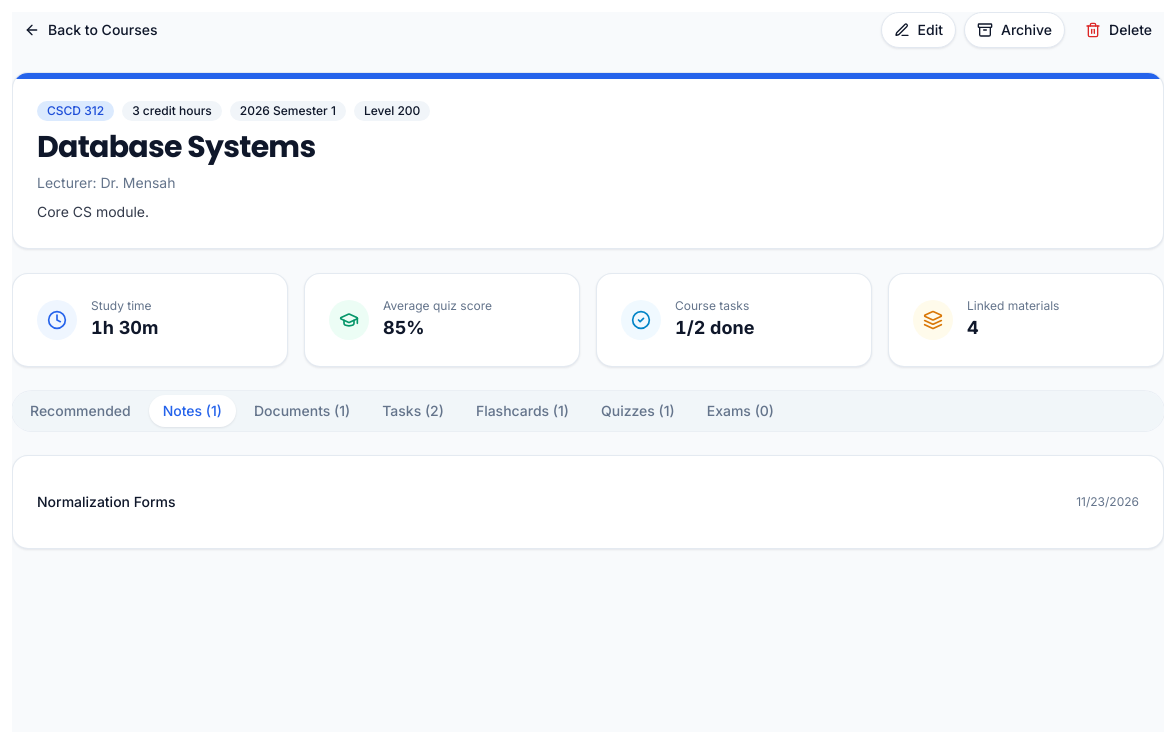
Test: CourseDetailPage › renders course stats and all six linked overview tabs
Expected: the heading "Database Systems" is shown, [37,126,315,168]
Expected: the text "1h 30m" is shown, [91,314,158,342]
Click the tab "Documents (1)": (302,411) [240,395,364,427]
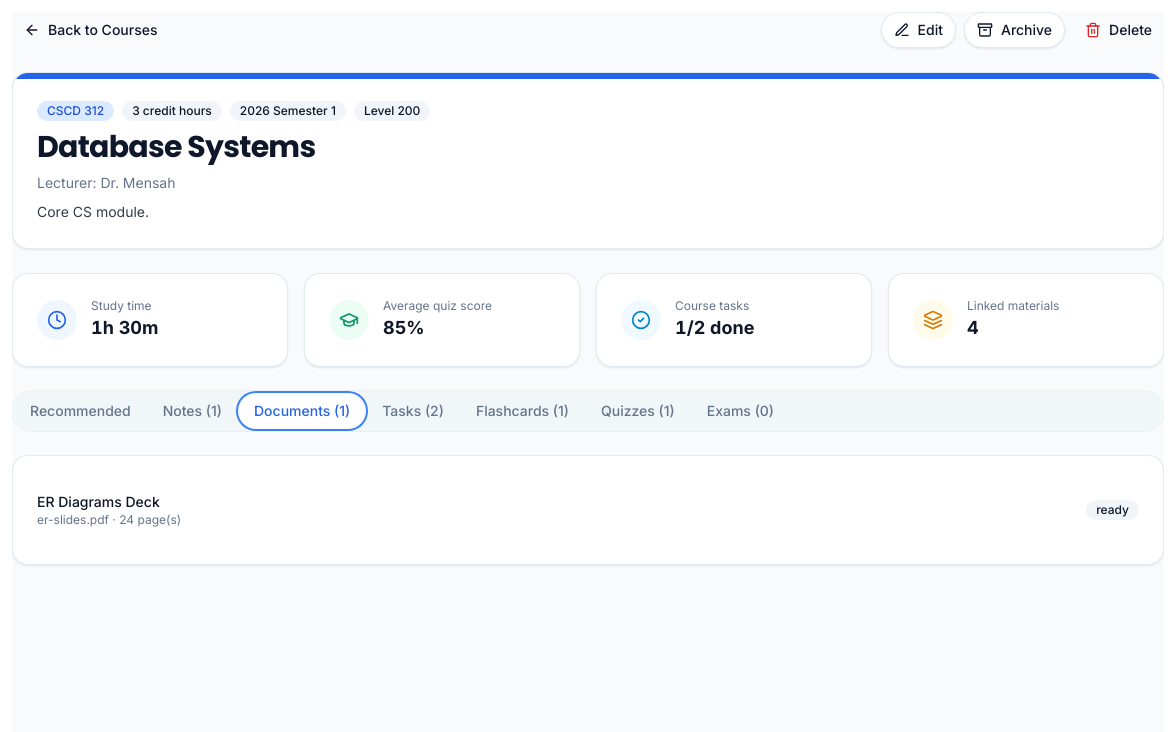
Now the text "ER Diagrams Deck" is shown, box [37,492,181,512]
Click the tab "Tasks (2)": (413,411) [368,395,458,427]
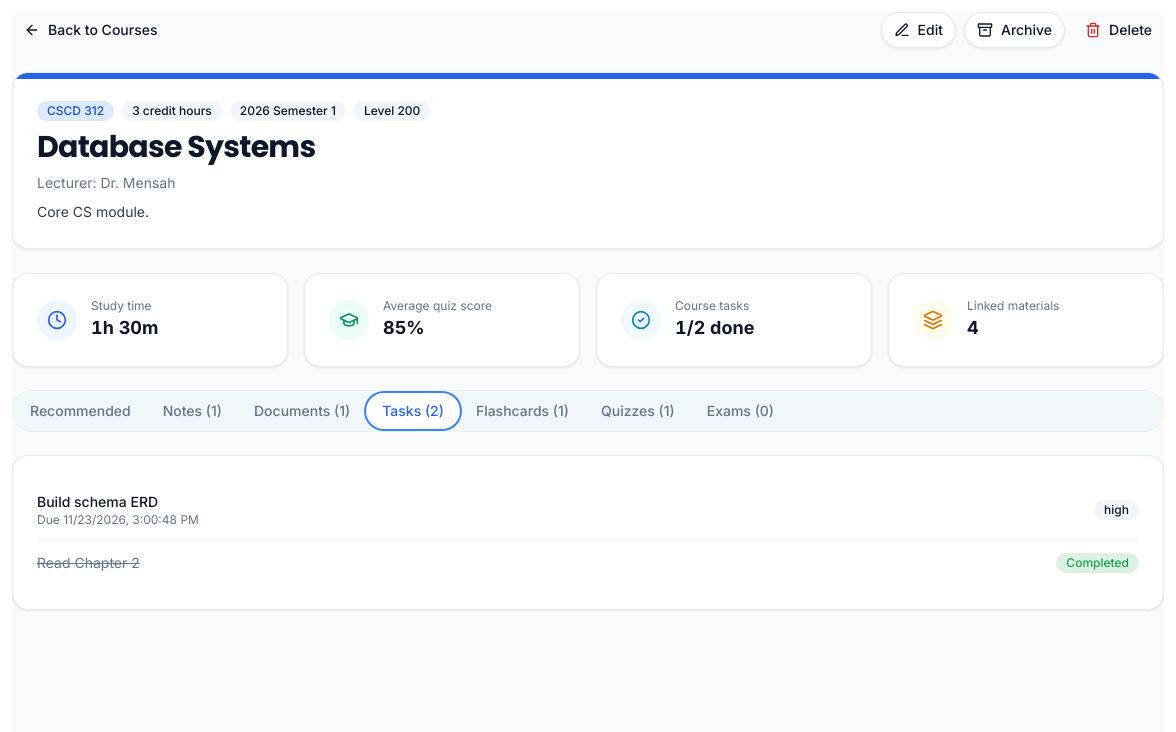
Now the text "Build schema ERD" is shown, box [37,493,158,510]
Click the tab "Flashcards (1)": (522,411) [462,395,583,427]
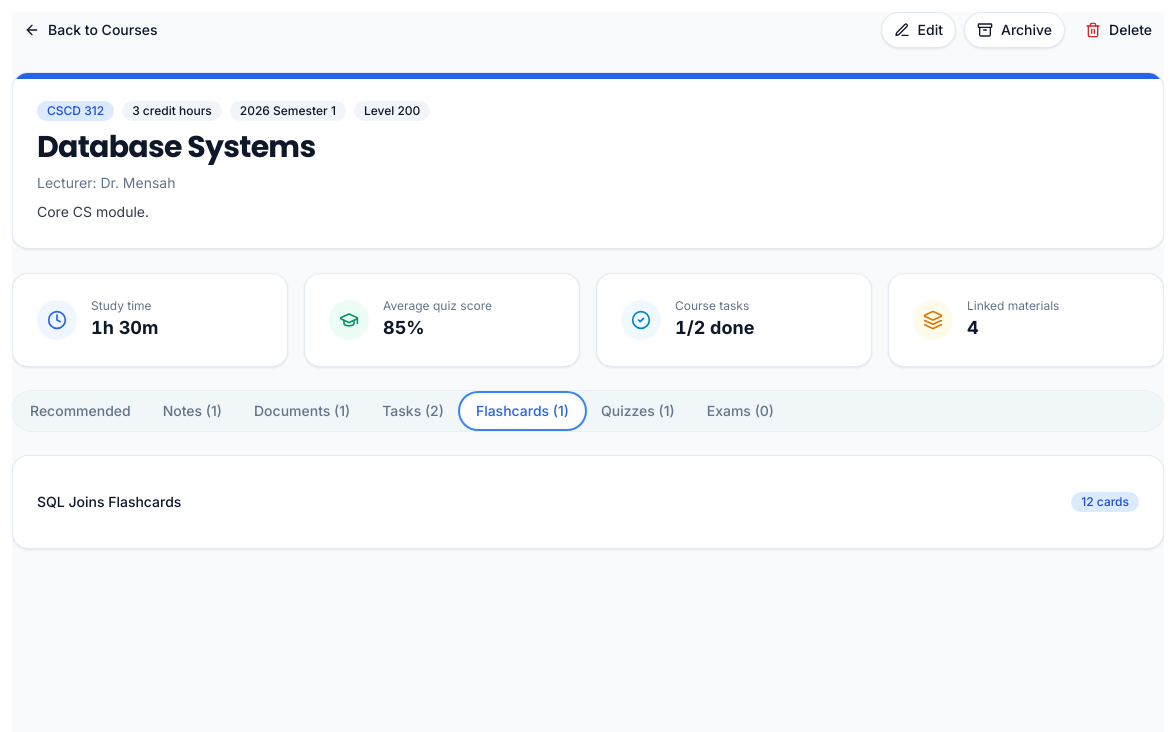
Now the text "SQL Joins Flashcards" is shown, box [37,492,181,512]
Click the tab "Quizzes (1)": (638,411) [587,395,689,427]
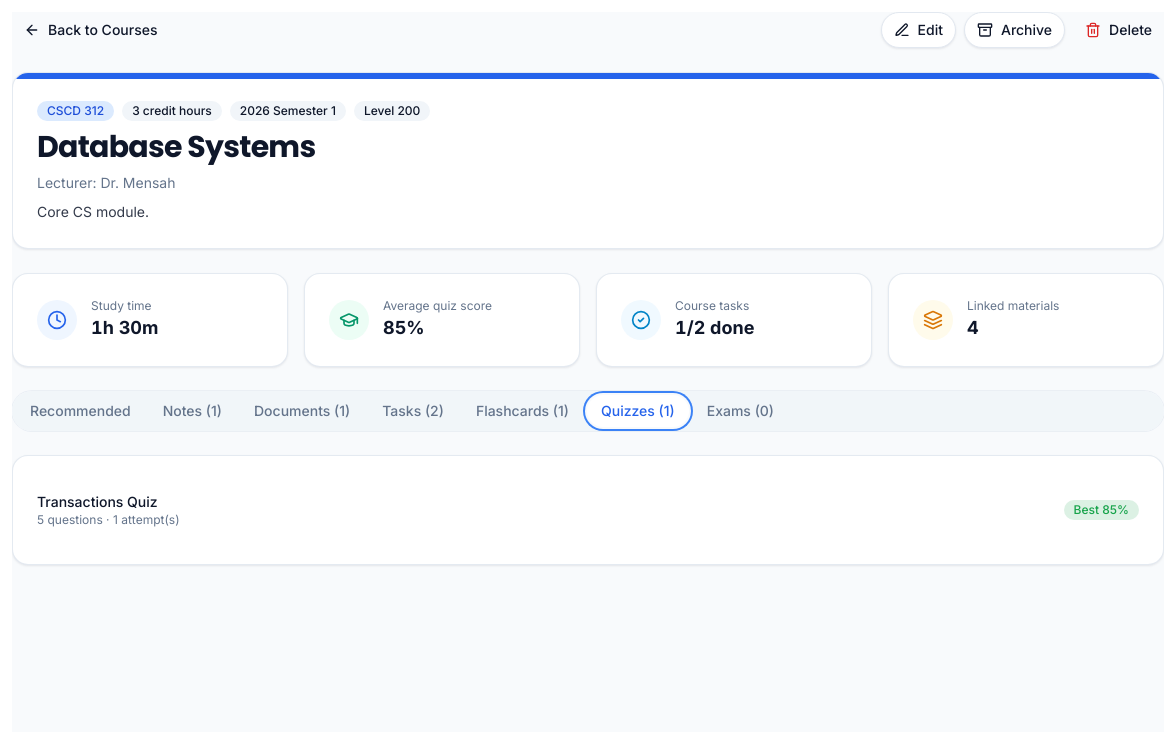
Now the text "Transactions Quiz" is shown, box [37,493,158,510]
Click the tab "Exams (0)": (740,411) [693,395,788,427]
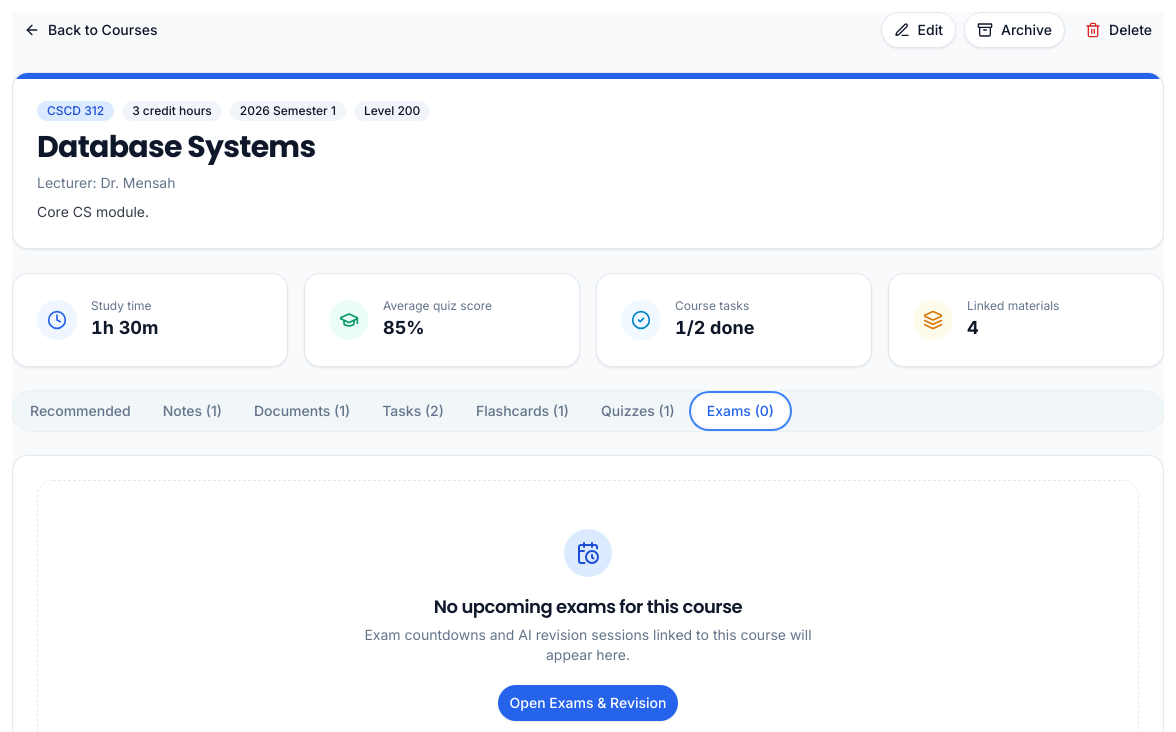
Now the heading "No upcoming exams for this course" is shown, box [434,593,742,621]
